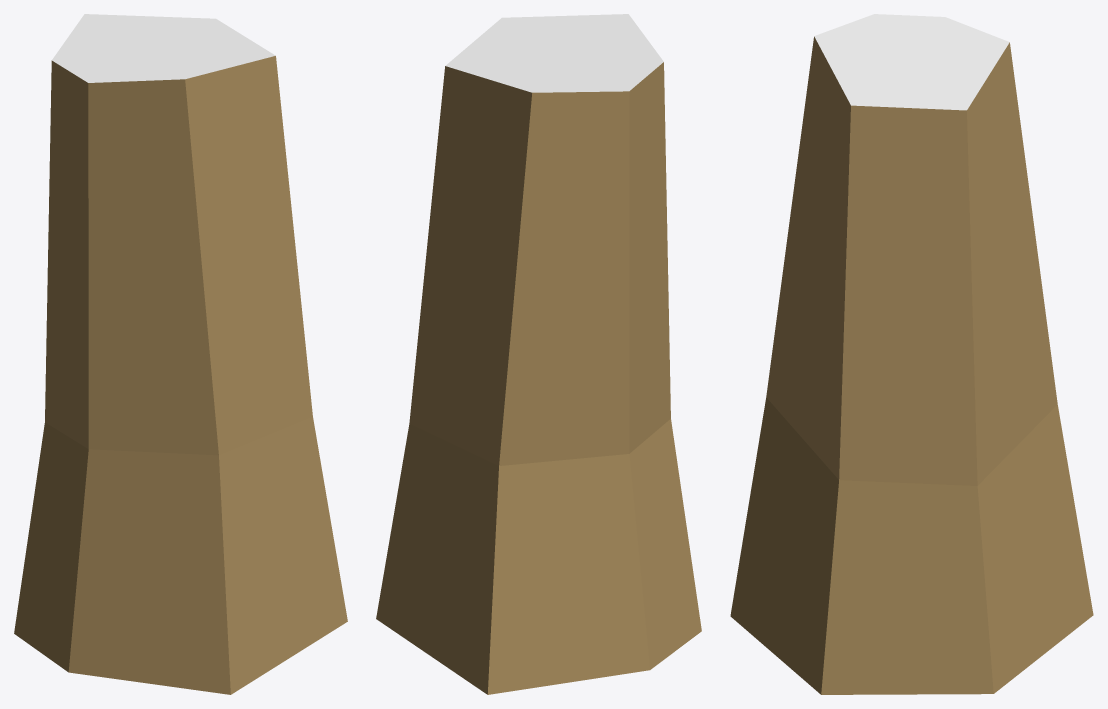
File: Oak_Stump_Snow_01_LOD.fbx
3 renders of one model, left to right at view 1: azimuth 30°, elevation 25°; view 2: azimuth 150°, elevation 25°; view 3: azimuth 270°, elevation 25°, orthographic.
Parts seen in each view (by area): view 1: Oak_Stump_Snow_01_LOD0; view 2: Oak_Stump_Snow_01_LOD0; view 3: Oak_Stump_Snow_01_LOD0.
Boxes of the visible parts, bbox=[...] form: Oak_Stump_Snow_01_LOD0: bbox=[14, 14, 347, 694]; Oak_Stump_Snow_01_LOD0: bbox=[376, 14, 701, 694]; Oak_Stump_Snow_01_LOD0: bbox=[730, 14, 1093, 694].
Size of what is drawn, in the model's own units: 63.36 by 135 by 76.71.
